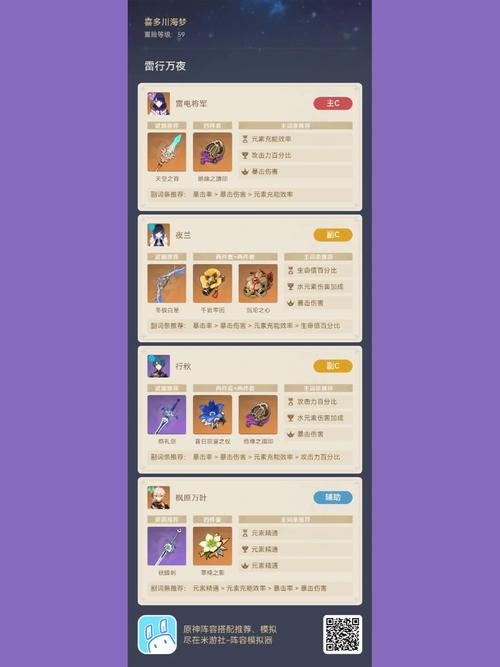夜兰: (148, 223, 168, 246)
